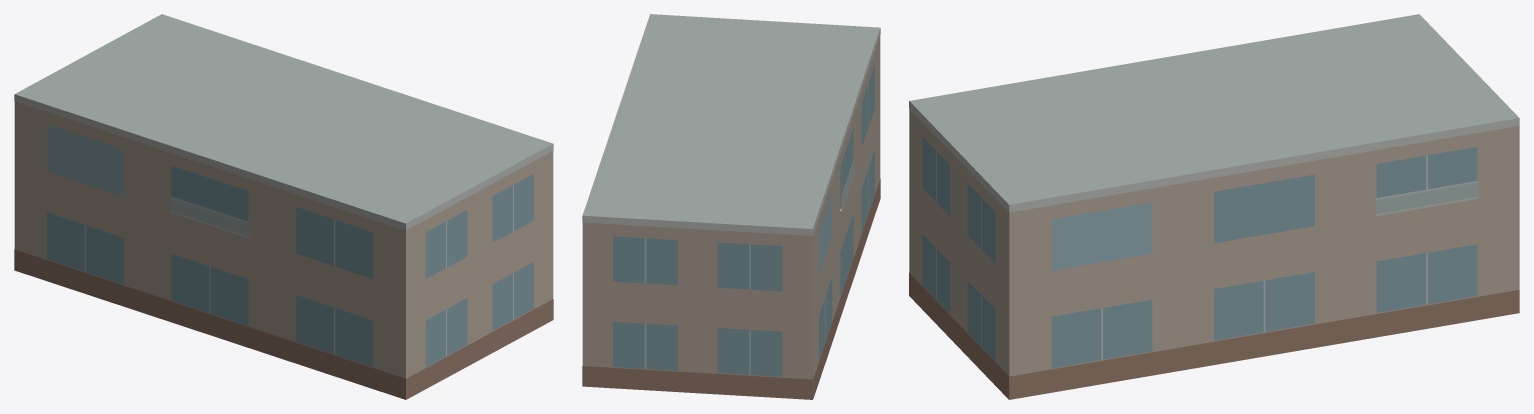
File: survey-upis-33038950.glb
3 renders of one model, left to right at view 1: azimuth 30°, elevation 25°; view 2: azimuth 150°, elevation 25°; view 3: azimuth 270°, elevation 25°, orthographic. The views are drawn at different scales.
Visible parts, largest first — view 1: survey-upis-33038950.tmp; view 2: survey-upis-33038950.tmp; view 3: survey-upis-33038950.tmp.
Boxes of the visible parts, x1,y1,x2,y2 form: survey-upis-33038950.tmp: [14, 14, 553, 399]; survey-upis-33038950.tmp: [582, 14, 880, 399]; survey-upis-33038950.tmp: [909, 14, 1519, 399].
Bounding box in the file's own units: 12.82 × 6.1 × 17.31.
